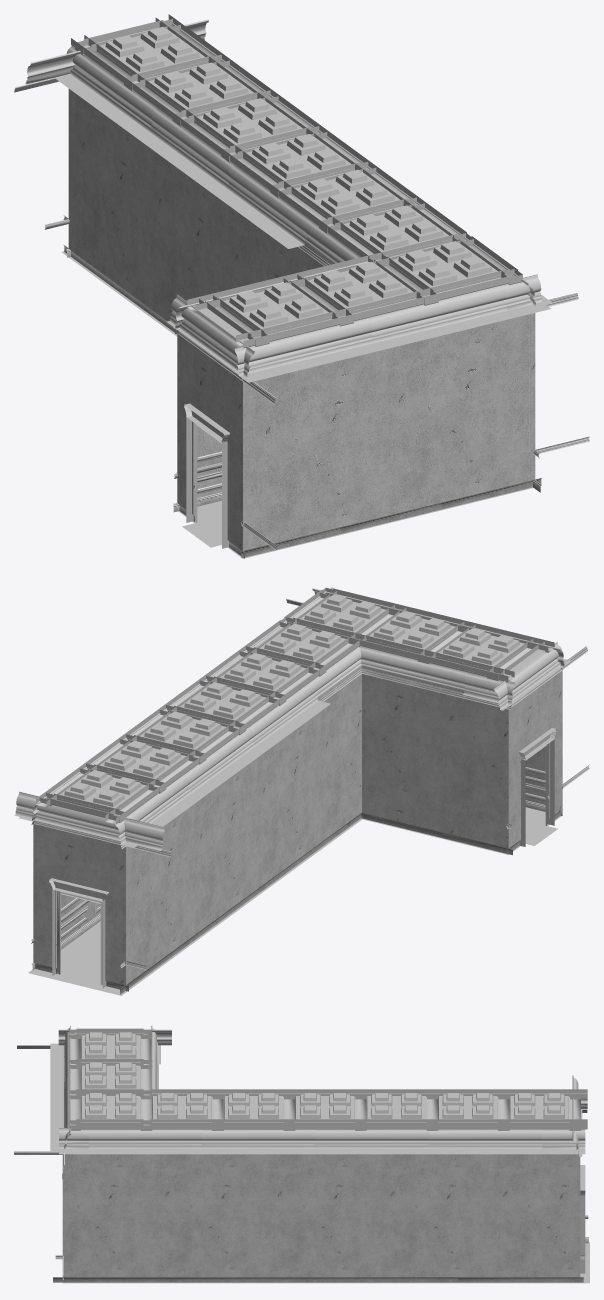
File: Passage.fbx
The picture shows the model from 3 angles, top to bottom: view 1: azimuth 30°, elevation 25°; view 2: azimuth 150°, elevation 25°; view 3: azimuth 270°, elevation 25°; orthographic projection. The views are drawn at different scales.
Parts seen in each view (by area): view 1: LODGroup_1_MainMesh_1_SubMesh_7, LODGroup_1_MainMesh_1_SubMesh_2, LODGroup_1_MainMesh_1_SubMesh_5, LODGroup_1_MainMesh_1_SubMesh_1, LODGroup_1_MainMesh_1_SubMesh_4, LODGroup_1_MainMesh_1_SubMesh_3, LODGroup_1_MainMesh_1_SubMesh_6; view 2: LODGroup_1_MainMesh_1_SubMesh_7, LODGroup_1_MainMesh_1_SubMesh_2, LODGroup_1_MainMesh_1_SubMesh_5, LODGroup_1_MainMesh_1_SubMesh_1, LODGroup_1_MainMesh_1_SubMesh_4, LODGroup_1_MainMesh_1_SubMesh_3, LODGroup_1_MainMesh_1_SubMesh_6; view 3: LODGroup_1_MainMesh_1_SubMesh_7, LODGroup_1_MainMesh_1_SubMesh_2, LODGroup_1_MainMesh_1_SubMesh_5, LODGroup_1_MainMesh_1_SubMesh_1, LODGroup_1_MainMesh_1_SubMesh_3, LODGroup_1_MainMesh_1_SubMesh_4.
Part boxes in pixels (x1,y1,x2,y2): LODGroup_1_MainMesh_1_SubMesh_7: (68, 88, 535, 550); LODGroup_1_MainMesh_1_SubMesh_2: (71, 14, 522, 348); LODGroup_1_MainMesh_1_SubMesh_5: (25, 19, 551, 382); LODGroup_1_MainMesh_1_SubMesh_1: (14, 74, 589, 558); LODGroup_1_MainMesh_1_SubMesh_4: (184, 403, 229, 548); LODGroup_1_MainMesh_1_SubMesh_3: (61, 251, 533, 558); LODGroup_1_MainMesh_1_SubMesh_6: (182, 505, 221, 547); LODGroup_1_MainMesh_1_SubMesh_7: (33, 670, 562, 985); LODGroup_1_MainMesh_1_SubMesh_2: (36, 588, 554, 824); LODGroup_1_MainMesh_1_SubMesh_5: (14, 587, 571, 850); LODGroup_1_MainMesh_1_SubMesh_1: (31, 598, 589, 994); LODGroup_1_MainMesh_1_SubMesh_4: (49, 728, 556, 988); LODGroup_1_MainMesh_1_SubMesh_3: (28, 807, 561, 995); LODGroup_1_MainMesh_1_SubMesh_6: (54, 811, 557, 988); LODGroup_1_MainMesh_1_SubMesh_7: (62, 1154, 580, 1277); LODGroup_1_MainMesh_1_SubMesh_2: (69, 1028, 587, 1130); LODGroup_1_MainMesh_1_SubMesh_5: (50, 1025, 587, 1156); LODGroup_1_MainMesh_1_SubMesh_1: (14, 1045, 588, 1282); LODGroup_1_MainMesh_1_SubMesh_3: (63, 1242, 589, 1283); LODGroup_1_MainMesh_1_SubMesh_4: (580, 1165, 585, 1273).
Bounding box in the file's own units: 947 × 552 × 1788.
